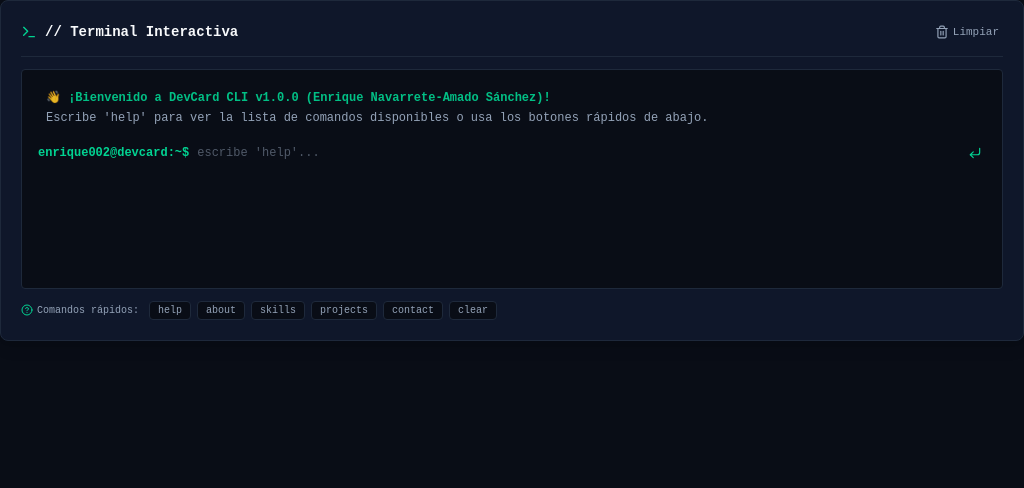
Test case: InteractiveTerminal Component › executes command when typed and submitted with Enter
The width and height of the screenshot is (1024, 488).
Type "skills" into the field with placeholder "escribe 'help'...".
click(577, 153); type("skills")  # box [197,145,956,161]
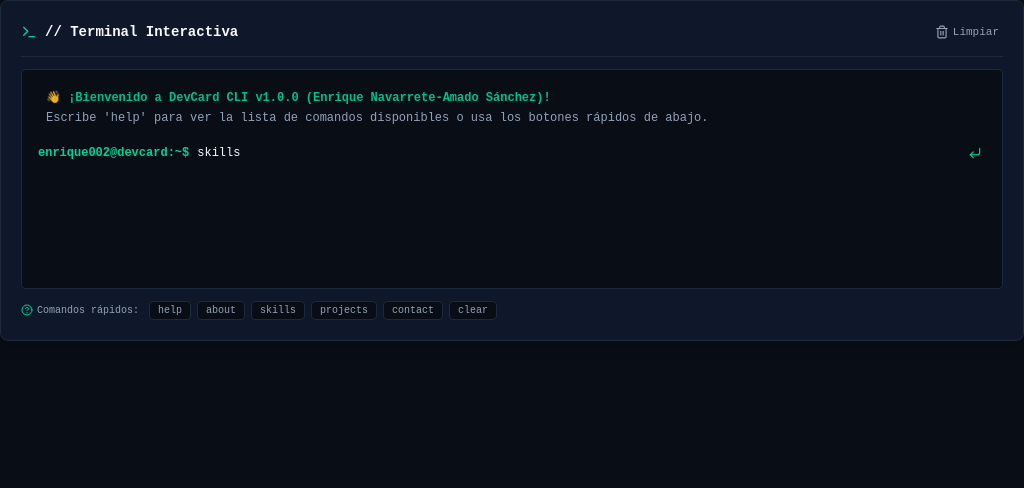
Press Enter in the field with placeholder "escribe 'help'...", box [197,145,956,161]
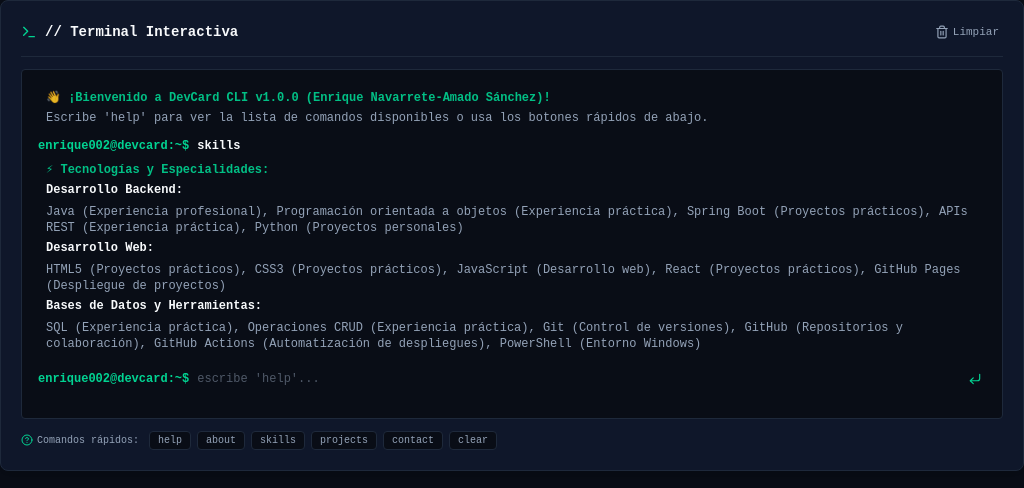
Check: the text "⚡ Tecnologías y Especialidades:" is shown, box [46,163,269,177]
